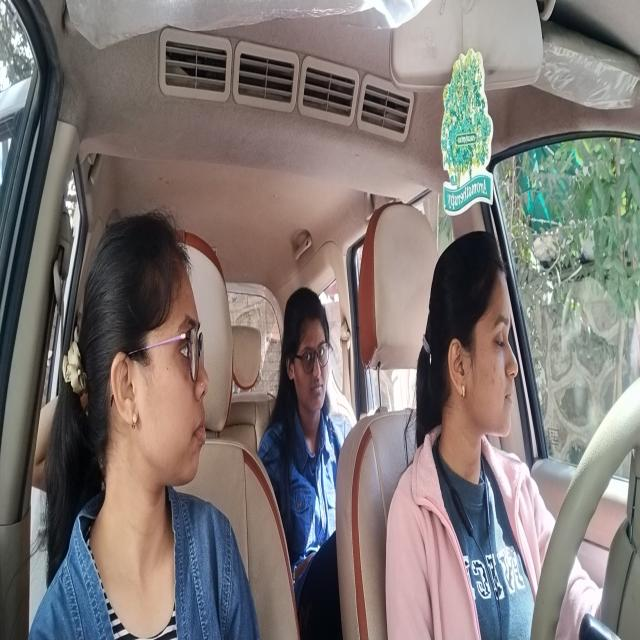drowsy: (424, 228, 520, 470)
person: (80, 209, 206, 517), (282, 286, 332, 416)
